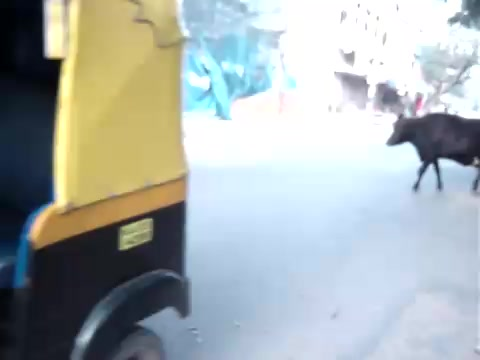cow: (387, 114, 480, 194)
